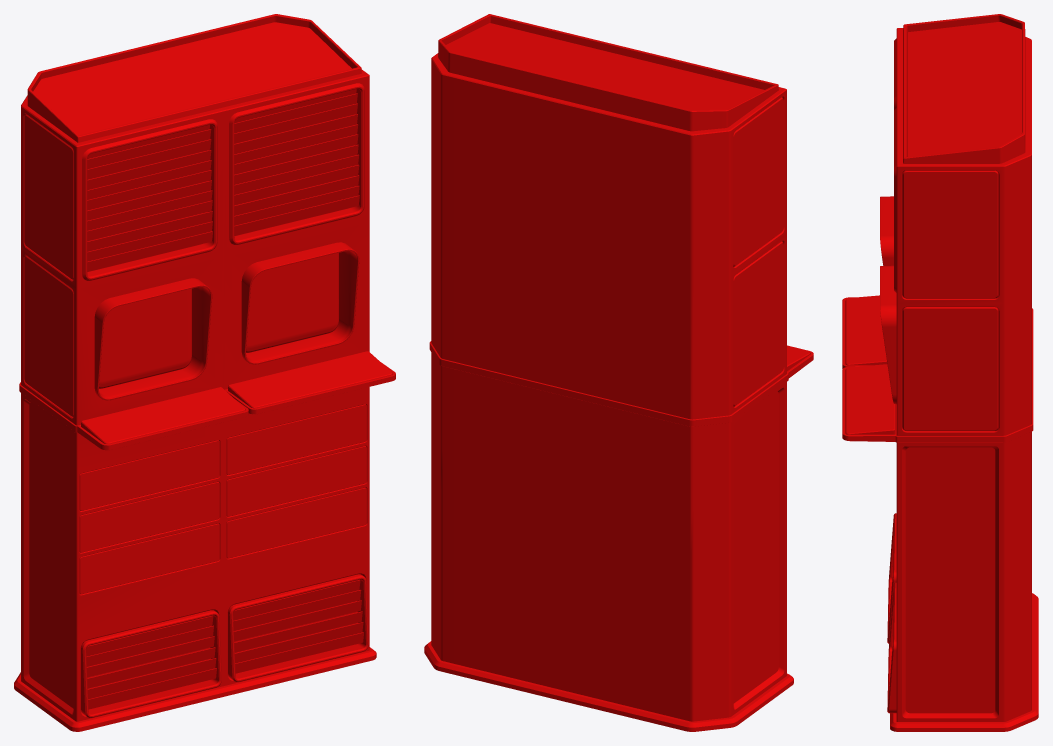
The model's file is Equipment_11.fbx.
3 views of the same model, side by side, from view 1: azimuth 30°, elevation 25°; view 2: azimuth 150°, elevation 25°; view 3: azimuth 270°, elevation 25° (orthographic). The views are drawn at different scales.
Visible parts, largest first — view 1: L2:polySurface255; view 2: L2:polySurface255; view 3: L2:polySurface255.
Part boxes in pixels (bbox=[...]): L2:polySurface255: bbox=[14, 14, 395, 731]; L2:polySurface255: bbox=[424, 14, 813, 731]; L2:polySurface255: bbox=[842, 14, 1038, 731].
Size of the model in its own units: 123 by 231 by 70.66.
